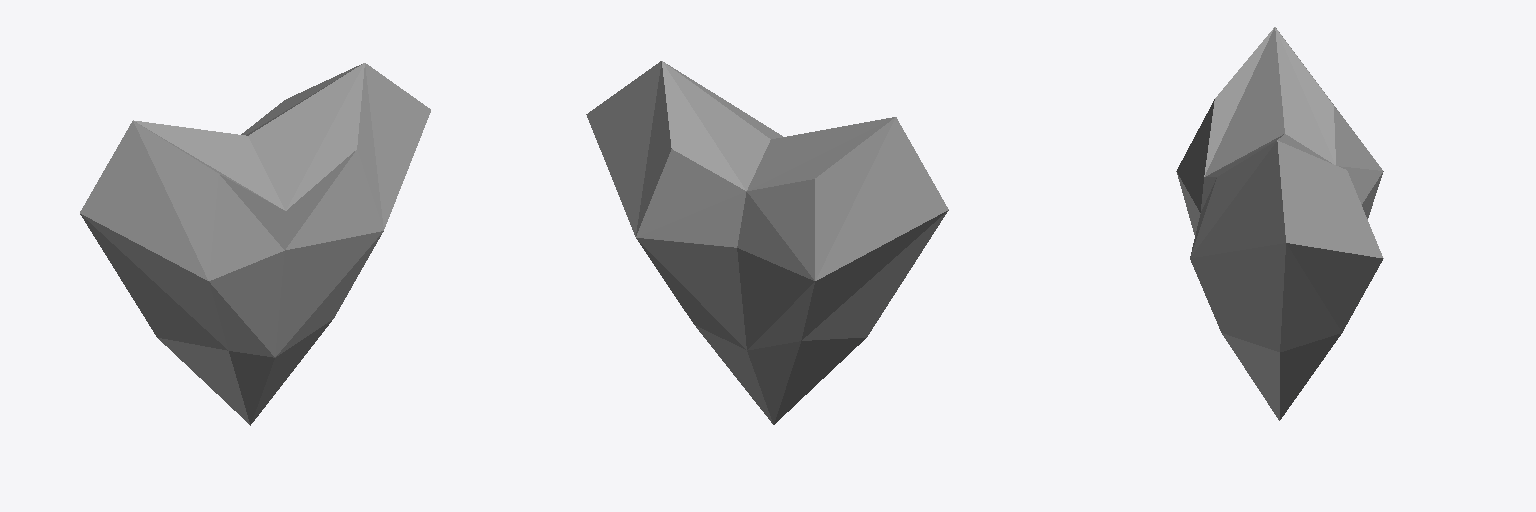
The model's file is heartstone.obj.
3 views of the same model, side by side, from view 1: azimuth 30°, elevation 25°; view 2: azimuth 150°, elevation 25°; view 3: azimuth 270°, elevation 25° (orthographic).
Visible parts, largest first — view 1: Cube; view 2: Cube; view 3: Cube.
Boxes of the visible parts, box(x1,y1,x2,y2) form: Cube: box(80, 63, 430, 425); Cube: box(586, 61, 948, 424); Cube: box(1176, 27, 1383, 420).
Size of the model in its own units: 3.98 by 3.58 by 2.